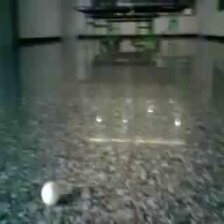w: (40, 181, 60, 204)
